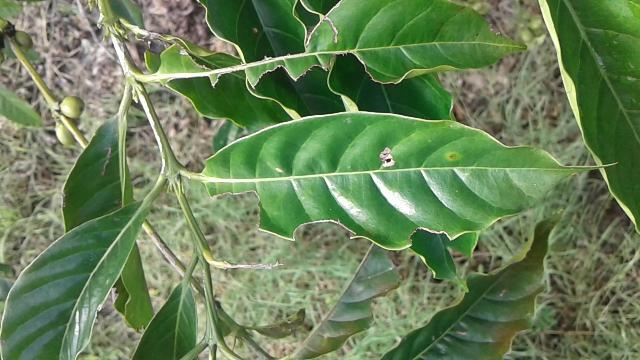rust_level_1: (205, 113, 618, 248)
